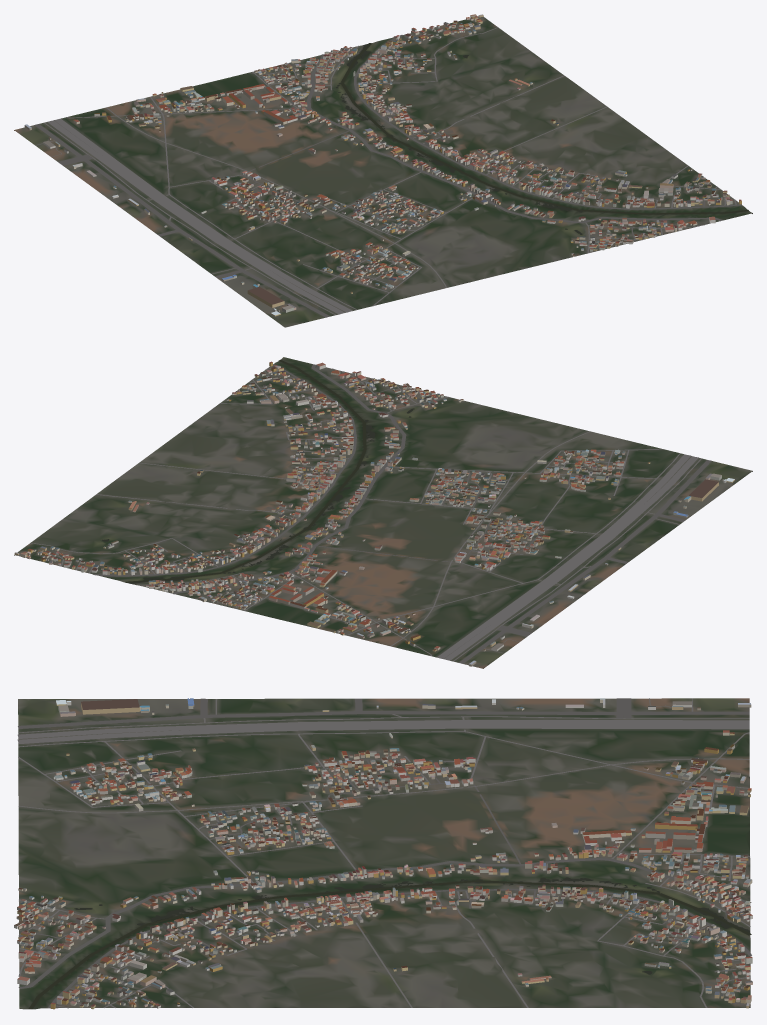
The picture shows the model from 3 angles, top to bottom: view 1: azimuth 30°, elevation 25°; view 2: azimuth 150°, elevation 25°; view 3: azimuth 270°, elevation 25°; orthographic projection. The views are drawn at different scales.
Visible parts, largest first — view 1: ground, buildings, roads, water; view 2: ground, buildings, roads, water; view 3: ground, buildings, roads, water.
Boxes of the visible parts, box(x1,y1,x2,y2) form: ground: box(14, 16, 752, 327); buildings: box(24, 14, 741, 316); roads: box(34, 16, 741, 317); water: box(335, 43, 748, 234); ground: box(14, 357, 752, 668); buildings: box(14, 361, 734, 666); roads: box(18, 364, 711, 663); water: box(102, 360, 414, 583); ground: box(18, 698, 750, 1009); buildings: box(14, 698, 752, 1009); roads: box(17, 698, 751, 1008); water: box(28, 877, 751, 1009).
Bounding box in the file's own units: 1411 × 21.32 × 1416.
